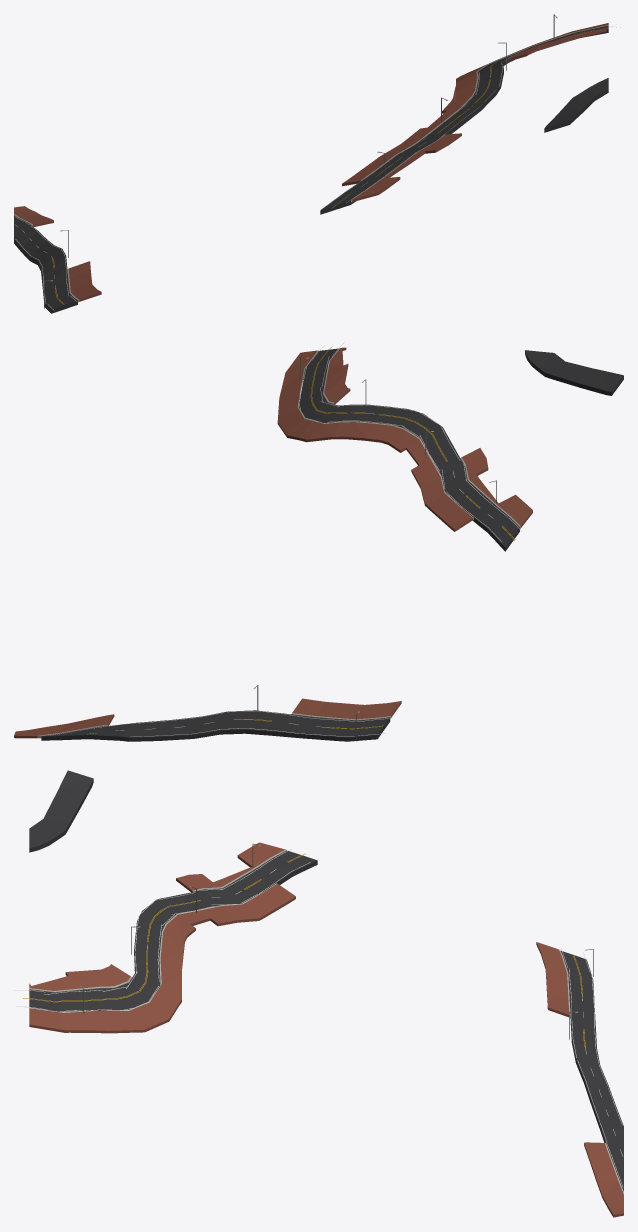
Rendered from 18-218915-118950.9fcee85a.glb.
The picture shows the model from 3 angles, top to bottom: view 1: azimuth 90°, elevation 25°; view 2: azimuth 150°, elevation 25°; view 3: azimuth 270°, elevation 25°; orthographic projection. The views are drawn at different scales.
Bounding box in the file's own units: 106 × 72.46 × 150.
